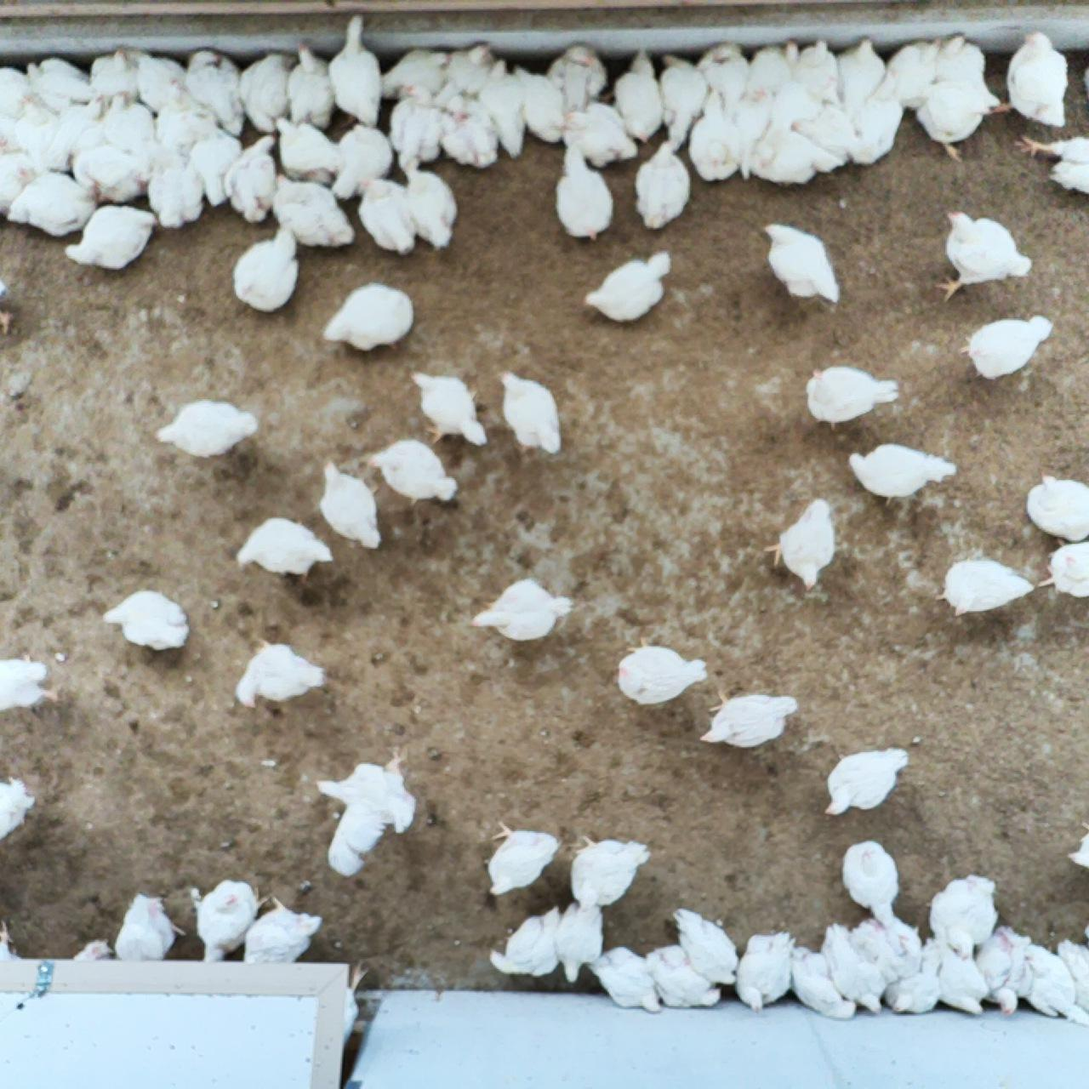chicken: (313, 745, 422, 879), (934, 207, 1033, 303), (303, 957, 377, 1066), (914, 74, 1003, 164), (191, 876, 274, 969), (266, 165, 357, 248), (759, 218, 842, 309), (845, 439, 957, 506), (763, 496, 840, 592), (241, 896, 324, 983), (581, 247, 676, 323), (825, 744, 917, 821), (320, 278, 416, 351), (572, 832, 654, 916), (151, 398, 262, 460), (1000, 29, 1068, 130), (233, 635, 325, 709), (471, 576, 574, 642), (807, 364, 901, 436), (958, 312, 1056, 381), (410, 365, 489, 450), (114, 894, 190, 982), (495, 364, 565, 459), (616, 635, 707, 708), (927, 874, 1002, 962), (315, 456, 387, 547), (365, 440, 462, 507), (229, 226, 302, 315), (233, 513, 335, 576), (550, 142, 615, 240), (482, 819, 561, 899), (5, 172, 100, 238), (782, 940, 858, 1022), (935, 557, 1036, 618), (917, 935, 990, 1018), (66, 207, 157, 273), (328, 14, 379, 129), (703, 690, 798, 751), (819, 922, 884, 1011), (975, 924, 1035, 1020), (189, 113, 248, 209), (102, 588, 190, 652), (389, 84, 449, 177), (398, 159, 458, 251), (633, 142, 695, 231), (646, 938, 720, 1012), (488, 904, 565, 975), (145, 145, 207, 233), (840, 838, 901, 927), (354, 172, 420, 254), (586, 944, 662, 1015), (559, 101, 639, 168), (222, 133, 280, 225), (235, 51, 298, 135), (669, 904, 735, 984), (747, 130, 844, 184), (188, 48, 248, 134), (734, 929, 795, 1013), (40, 91, 104, 171), (687, 93, 745, 181), (332, 119, 395, 200), (1015, 938, 1075, 1023), (612, 48, 664, 146), (849, 70, 902, 166), (271, 115, 342, 186), (477, 58, 525, 161), (657, 50, 707, 148), (71, 147, 151, 208), (543, 43, 608, 118), (1026, 470, 1089, 546), (435, 41, 498, 115), (557, 893, 608, 984), (440, 93, 500, 170), (375, 47, 453, 104), (1018, 134, 1089, 196), (155, 77, 215, 149), (285, 44, 335, 130), (512, 65, 567, 143), (931, 35, 993, 104), (1, 646, 60, 716), (886, 37, 942, 109), (837, 34, 888, 111), (786, 105, 853, 163), (22, 57, 92, 112), (131, 49, 188, 112), (14, 95, 60, 173), (700, 39, 749, 109), (1038, 539, 1089, 605), (104, 92, 158, 154), (727, 85, 773, 155), (793, 42, 840, 108), (883, 965, 939, 1020), (771, 76, 822, 136), (1056, 936, 1089, 1026), (89, 47, 141, 102), (851, 917, 899, 976), (0, 150, 41, 218), (882, 912, 922, 978), (747, 44, 794, 98), (0, 767, 32, 839), (69, 935, 113, 986), (0, 917, 32, 986), (0, 62, 34, 118), (1063, 821, 1089, 870), (0, 114, 22, 158)
